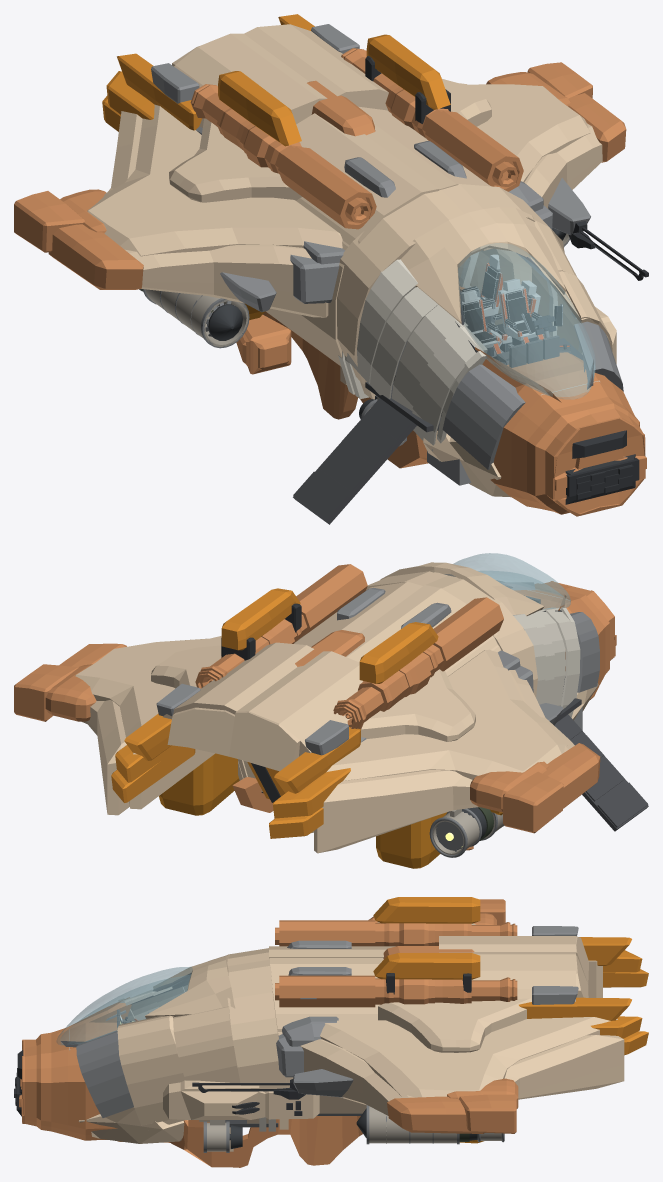
Rendered from player_ship.fbx.
3 renders of one model, top to bottom at view 1: azimuth 30°, elevation 25°; view 2: azimuth 150°, elevation 25°; view 3: azimuth 270°, elevation 25°, orthographic. The views are drawn at different scales.
Parts seen in each view (by area): view 1: Cube.060, Cube.070, Mesh_CanopyDome, Cube.056, Cube.134, Part_NuclearMotor_A, Cube.061, Mesh_BoardingStair, Cube.073, Part_NuclearMotor_B, Cube.093, Cube.059 (+49 smaller); view 2: Cube.060, Cube.096, Cube.056, Cube.073, Cube.095, Part_NuclearMotor_A, Cube.059, Part_NuclearMotor_B, Mesh_BoardingStair, Cube.086, Cube.093, Mesh_CanopyDome (+35 smaller); view 3: Cube.073, Cube.081, Cube.070, Part_NuclearMotor_B, Cube.130, Cube.075, Cube.044, Plane.002, Part_NuclearMotor_A, Part_AntiGravity_A, Mesh_CanopyDome, Cube.135 (+35 smaller).
Part boxes in pixels (x1,y1,x2,y2): Cube.060: (87,104,342,256); Cube.070: (490,352,646,516); Mesh_CanopyDome: (458,243,595,399); Cube.056: (108,111,328,317); Cube.134: (401,207,565,324); Part_NuclearMotor_A: (190,84,376,229); Cube.061: (337,189,464,384); Mesh_BoardingStair: (293,398,416,524); Cube.073: (442,79,590,182); Part_NuclearMotor_B: (341,48,523,191); Cube.093: (296,113,439,244); Cube.059: (169,118,301,202); Cube.060: (311,649,567,832); Cube.096: (229,651,362,771); Cube.056: (314,670,574,853); Cube.073: (75,636,221,809); Cube.095: (163,642,313,756); Part_NuclearMotor_A: (333,597,503,729); Cube.059: (361,669,475,741); Part_NuclearMotor_B: (195,564,367,688); Mesh_BoardingStair: (554,714,648,831); Cube.086: (159,753,239,815); Cube.093: (346,585,498,676); Mesh_CanopyDome: (453,553,570,609); Cube.073: (320,1017,617,1097); Cube.081: (300,1035,624,1115); Cube.070: (19,1022,122,1140); Part_NuclearMotor_B: (275,975,517,1007); Cube.130: (227,959,288,1092); Cube.075: (378,998,531,1052); Cube.044: (117,1015,184,1125); Plane.002: (117,1116,362,1167); Part_NuclearMotor_A: (275,920,517,946); Part_AntiGravity_A: (163,1080,319,1119); Mesh_CanopyDome: (56,966,192,1045); Cube.135: (173,1006,240,1082).
Bounding box in the file's own units: 2281 × 1109 × 2921.
